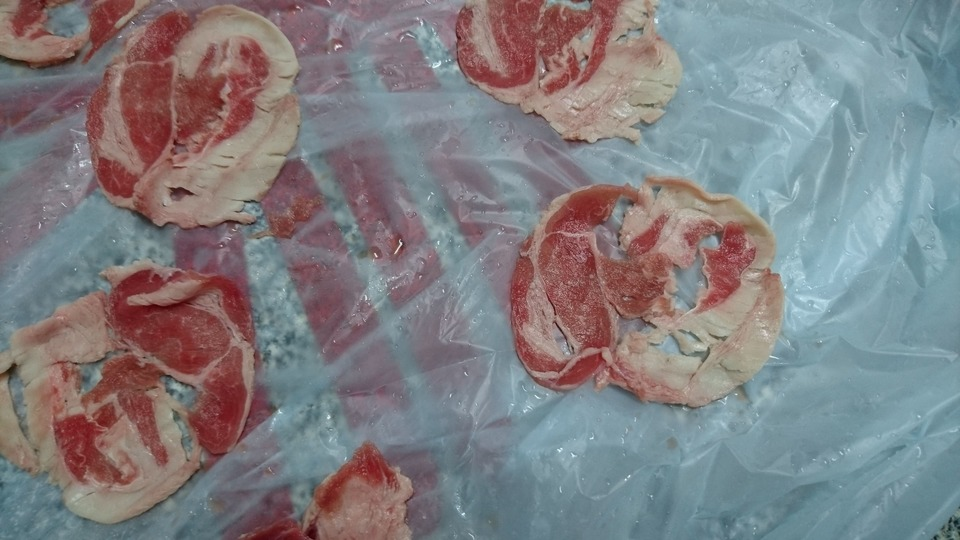restructured meat: (510, 168, 798, 411), (1, 260, 258, 522), (80, 1, 304, 230), (456, 1, 685, 146)
